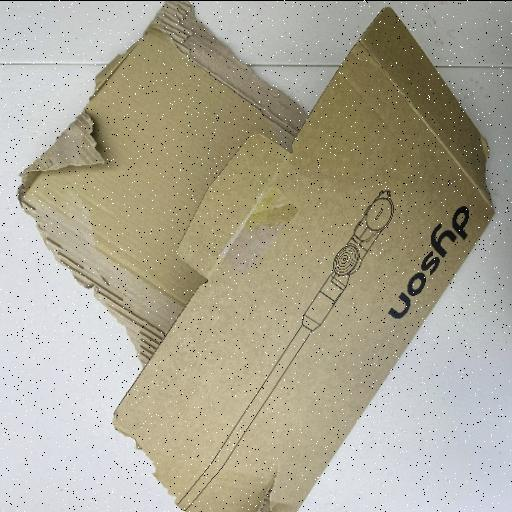Cardboard: (16, 3, 496, 510)
